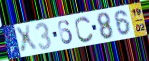3: (35, 21, 54, 51)
6: (113, 9, 132, 37), (57, 20, 74, 46)
8: (96, 11, 115, 40)
C: (74, 16, 95, 44)
X: (14, 24, 39, 55)
